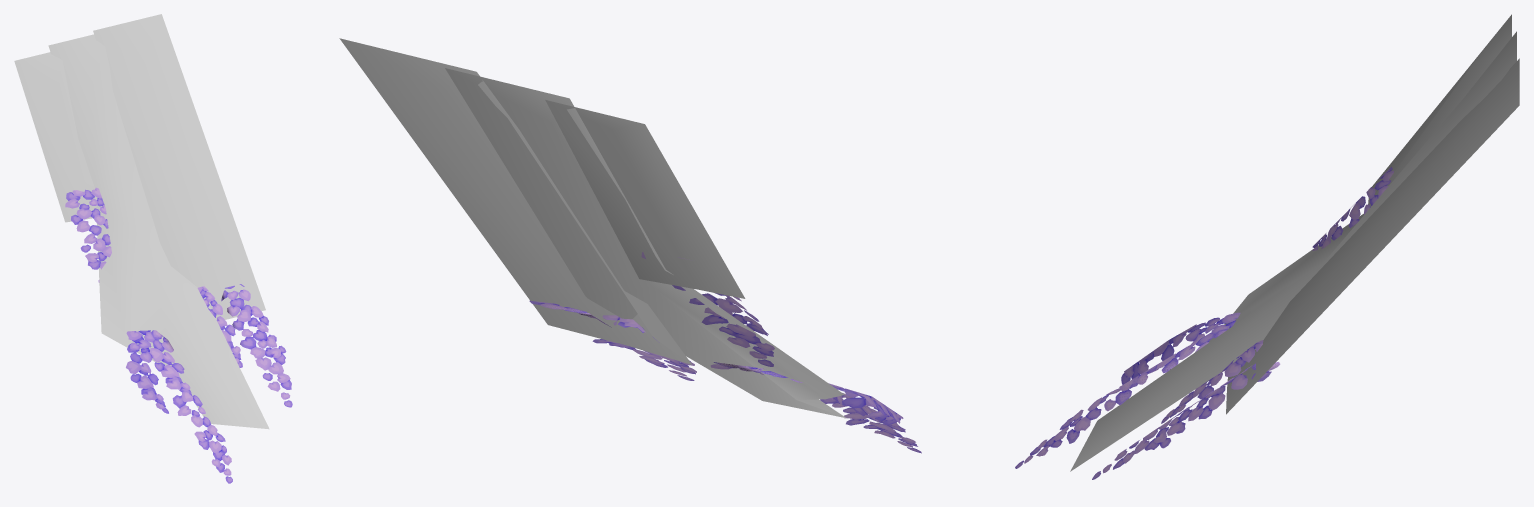
File: SM_Env_Vines_Preset_Roof_Concave_02.fbx
3 views of the same model, side by side, from view 1: azimuth 30°, elevation 25°; view 2: azimuth 150°, elevation 25°; view 3: azimuth 270°, elevation 25° (orthographic). The views are drawn at different scales.
Parts seen in each view (by area): view 1: SM_Env_Vines_Preset_Roof_Concave_02; view 2: SM_Env_Vines_Preset_Roof_Concave_02; view 3: SM_Env_Vines_Preset_Roof_Concave_02.
Boxes of the visible parts, x1=… form: SM_Env_Vines_Preset_Roof_Concave_02: x1=14, y1=14, x2=292, y2=483; SM_Env_Vines_Preset_Roof_Concave_02: x1=339, y1=38, x2=921, y2=453; SM_Env_Vines_Preset_Roof_Concave_02: x1=1015, y1=14, x2=1519, y2=479.
Size of the model in its own units: 111 by 211 by 220.
